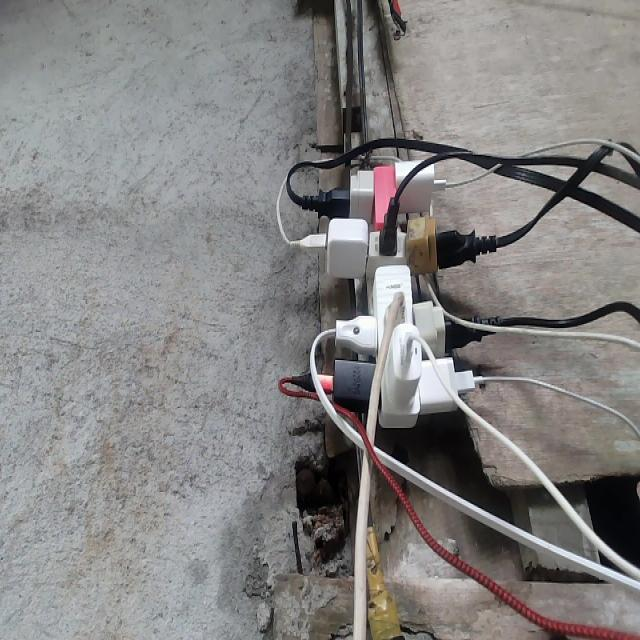-: (282, 161, 500, 428)
